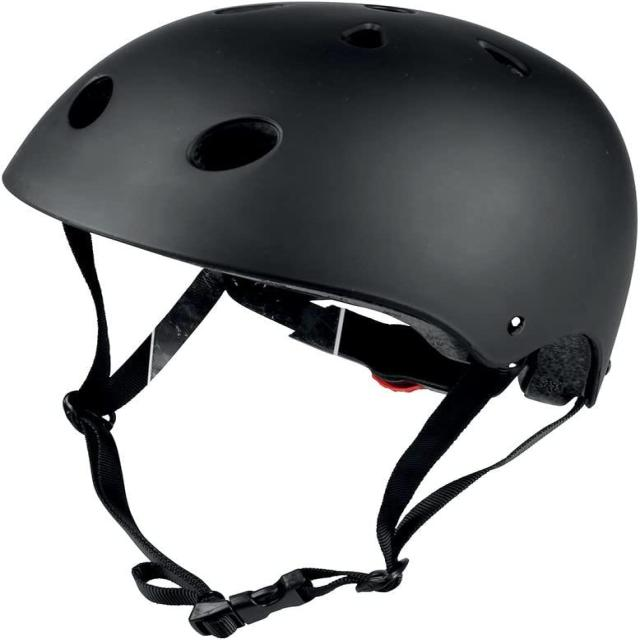Helmet: (0, 1, 640, 410)
